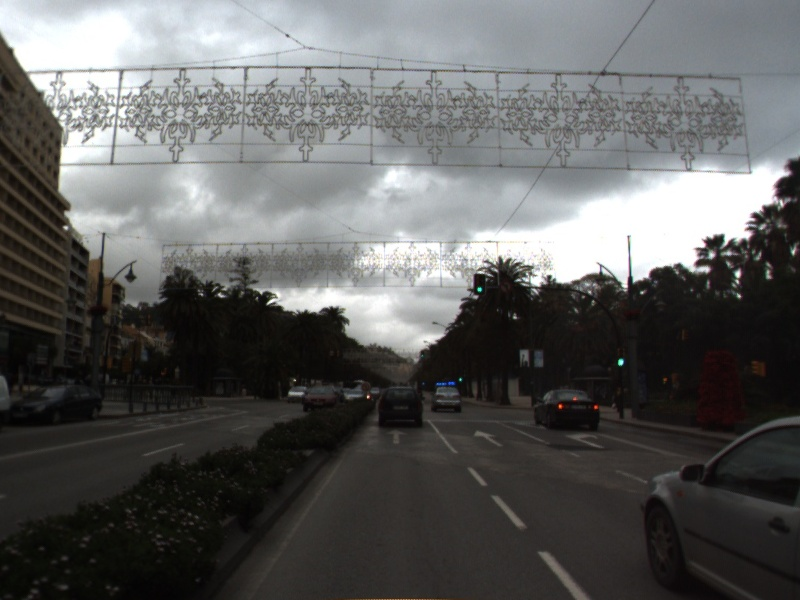RIGHT: (563, 430, 607, 450)
STRAIGHT: (471, 428, 506, 449), (383, 427, 410, 446)
